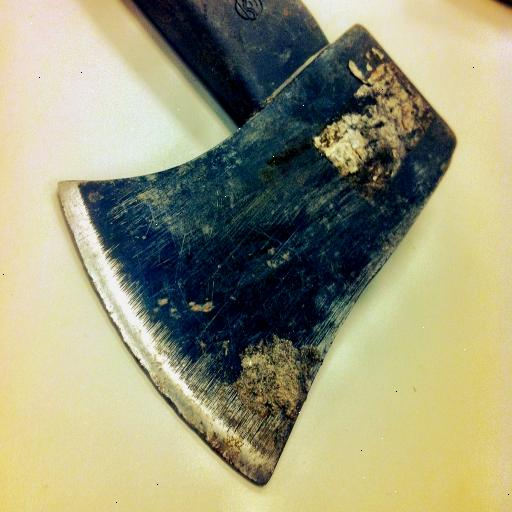Axe: (59, 0, 461, 485)
